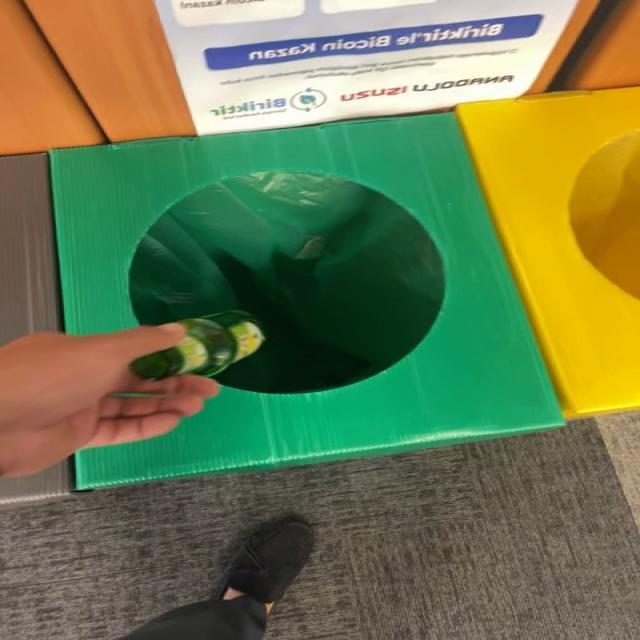Glass: (131, 311, 265, 380)
